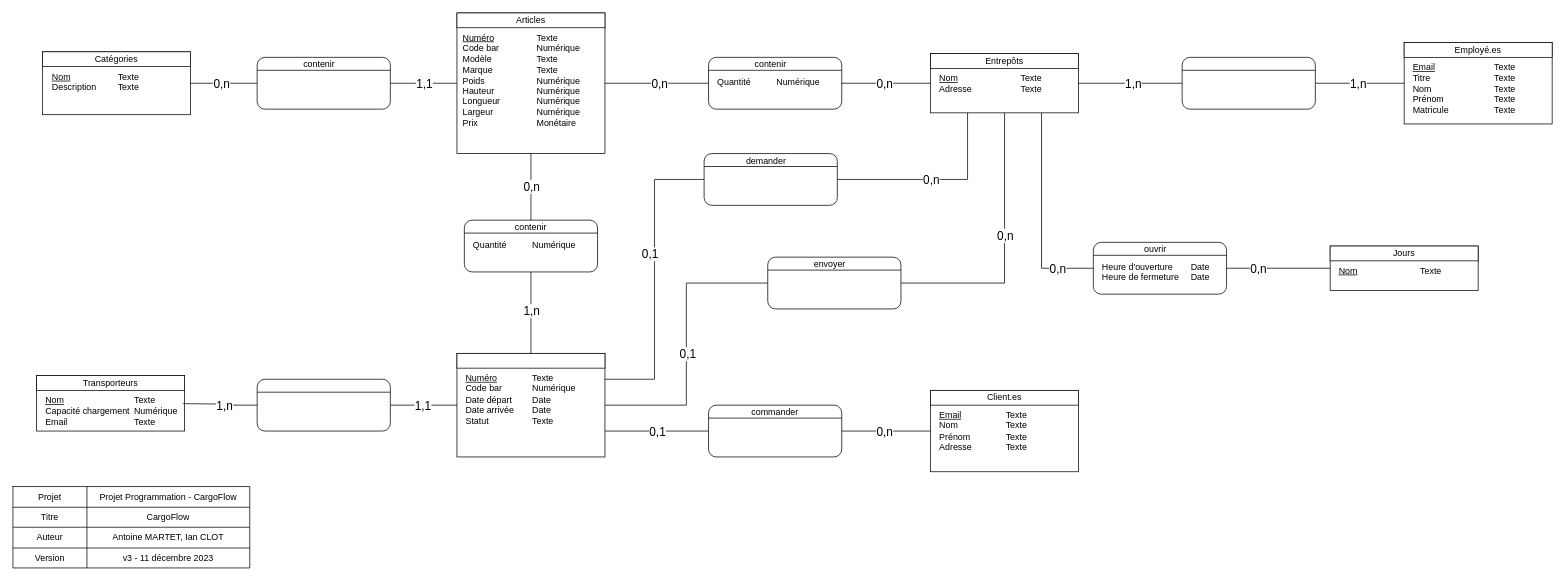
Image size: 1565x581. Some labels were removed from this diagram. The shapes that lost their labels are listed below. From the top down, each one's box as (x1, y1, x2, y2) in pixels, then its label:
(1181, 57, 1315, 109): travailler
(456, 353, 605, 368): Livraisons
(256, 379, 390, 431): transporter
